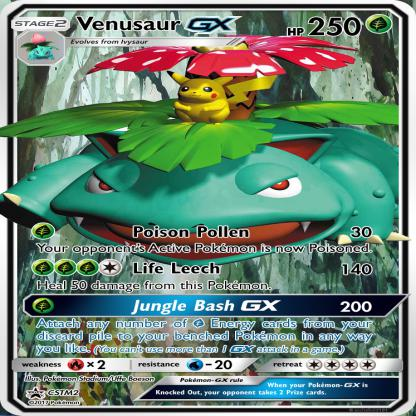Venusaur: (1, 63, 416, 253)
